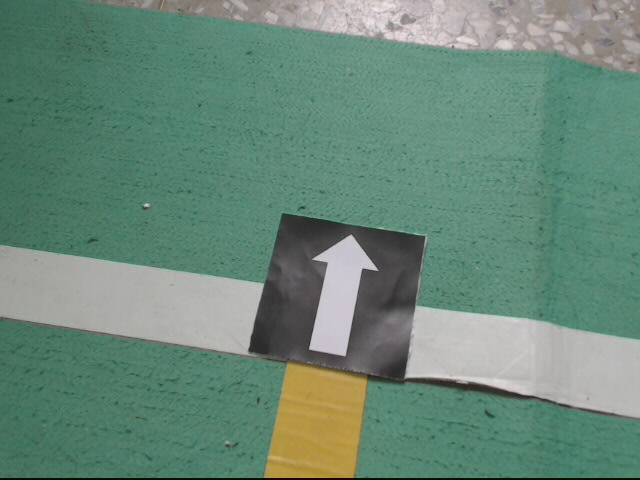straight: (249, 211, 429, 379)
